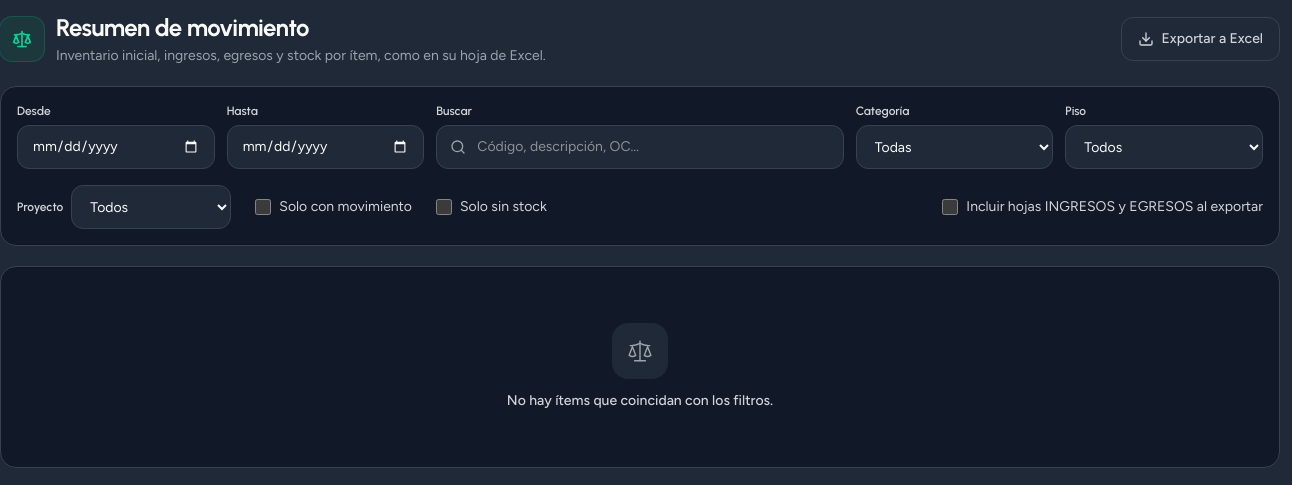
Test: ResumenPage › muestra el vacío del periodo y el error con reintento
Expected: the text "No hay ítems que coincidan con los filtros." is shown, x1=507 y1=391 x2=773 y2=411
Type "2026-10-01" into the date field labelled "Desde" at (116, 147), box x1=17 y1=125 x2=215 y2=169
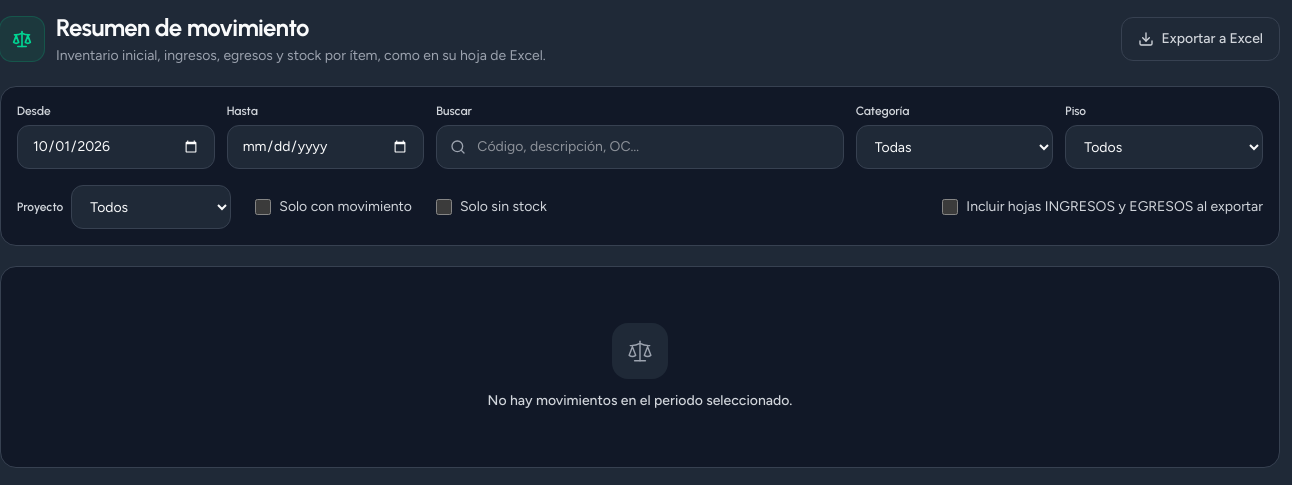
Now the text "No hay movimientos en el periodo seleccionado." is shown, box x1=488 y1=391 x2=792 y2=411
